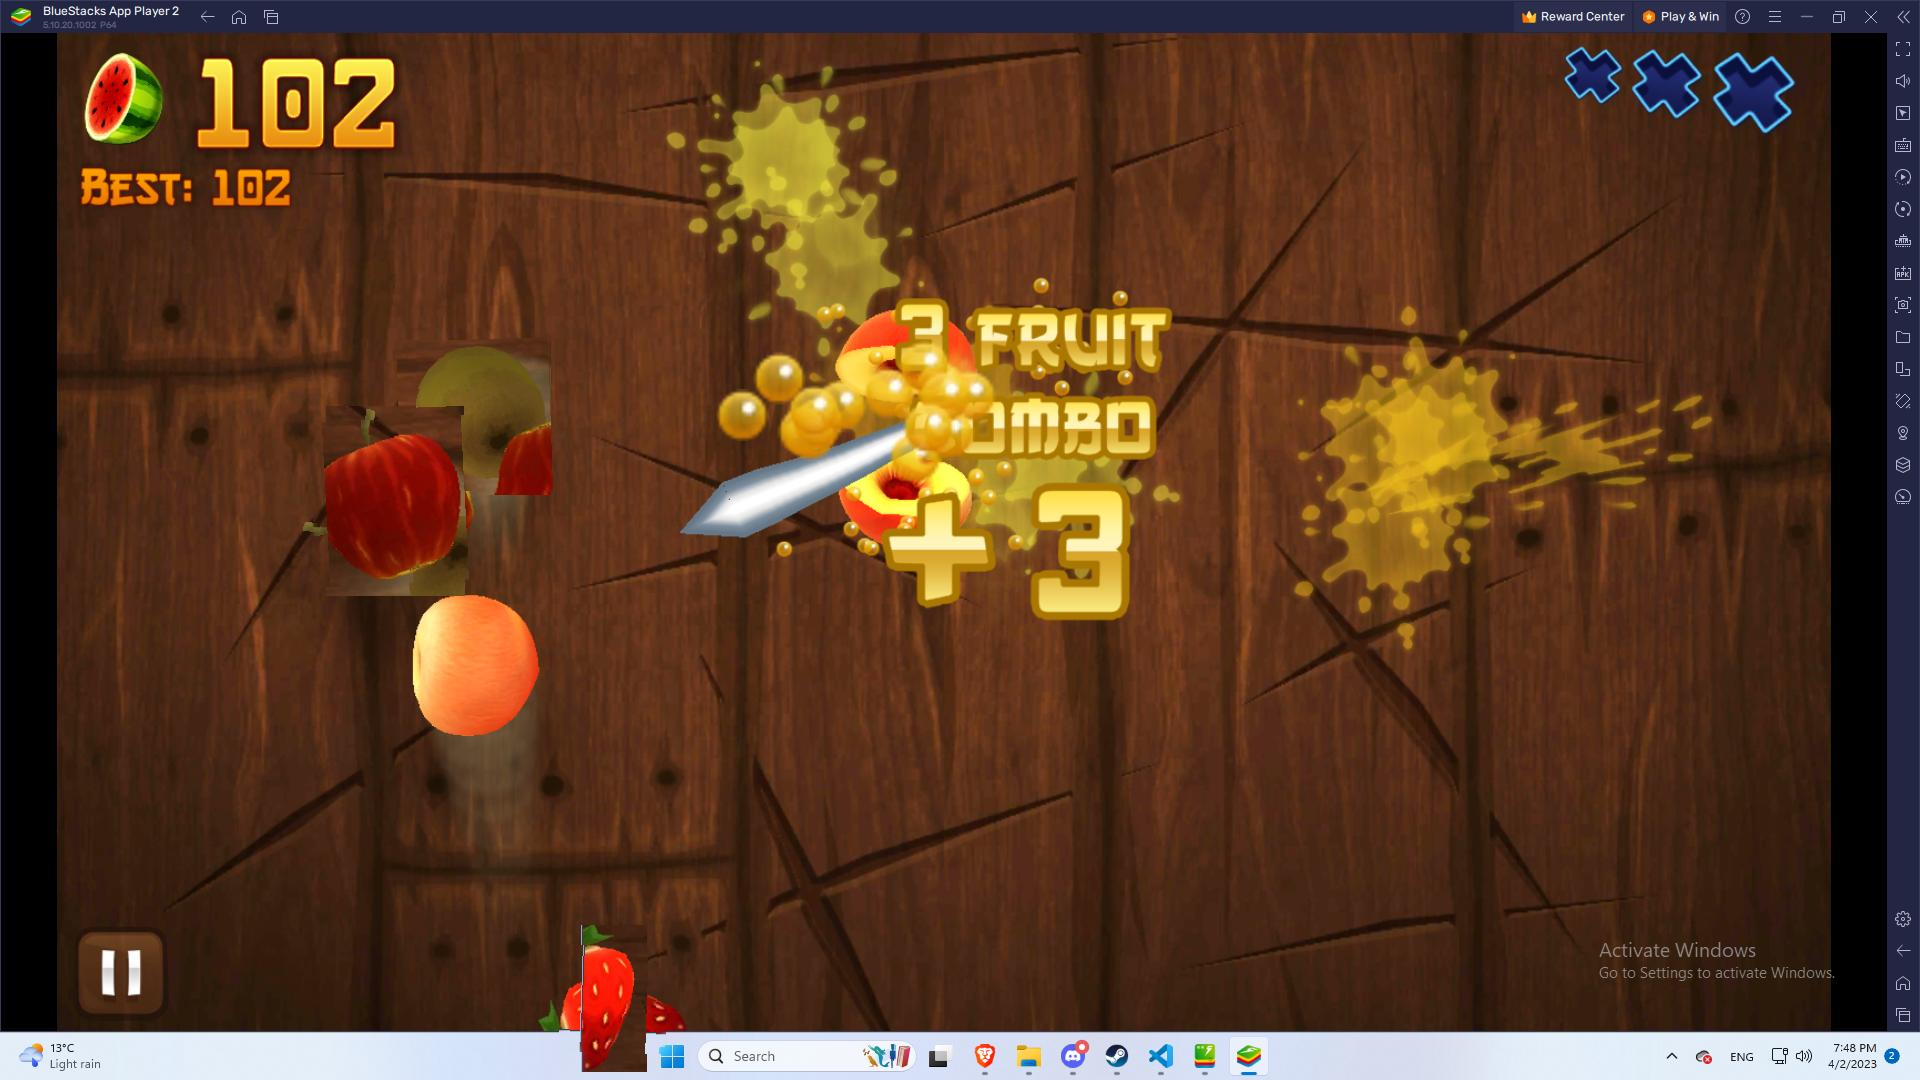fruit: (310, 417, 480, 585), (397, 339, 554, 496), (559, 945, 667, 1054)
